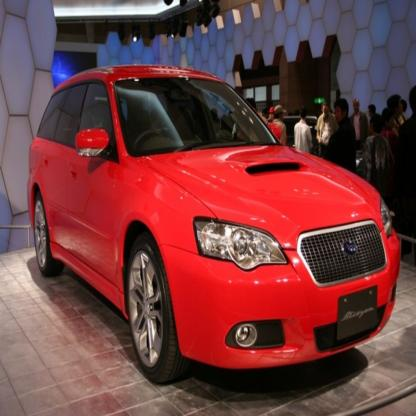Car: (27, 68, 385, 391)
